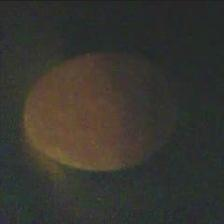fertile: (21, 47, 175, 176)
